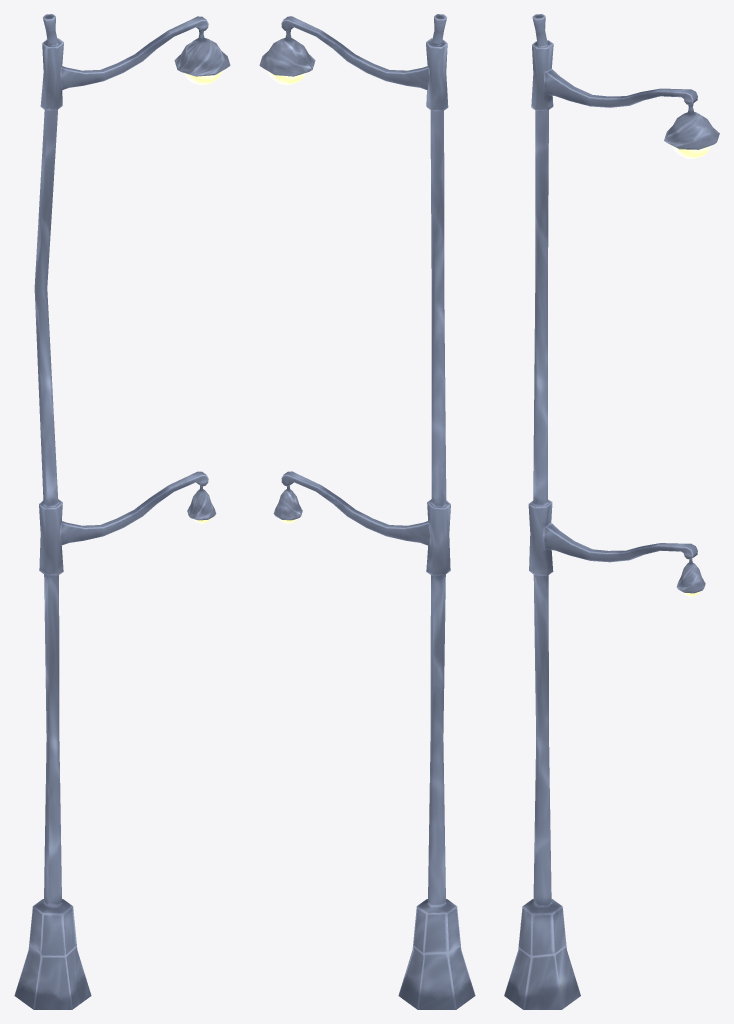
The model's file is Modern_Lamp_Post.glb.
The picture shows the model from 3 angles, left to right: view 1: azimuth 30°, elevation 25°; view 2: azimuth 150°, elevation 25°; view 3: azimuth 330°, elevation 25°; orthographic projection.
Parts seen in each view (by area): view 1: LampPostModern.001; view 2: LampPostModern.001; view 3: LampPostModern.001.
Boxes of the visible parts, x1,y1,x2,y2 form: LampPostModern.001: [14, 14, 230, 1009]; LampPostModern.001: [259, 14, 475, 1009]; LampPostModern.001: [504, 14, 719, 1009].
Size of the model in its own units: 1.62 by 7.45 by 0.5312.
Materials: 2 (1 with a texture image).
